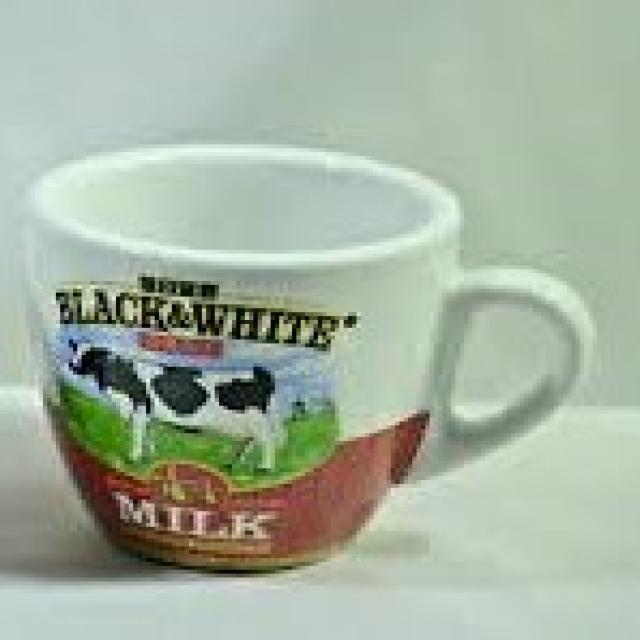taza: (14, 138, 604, 572)
